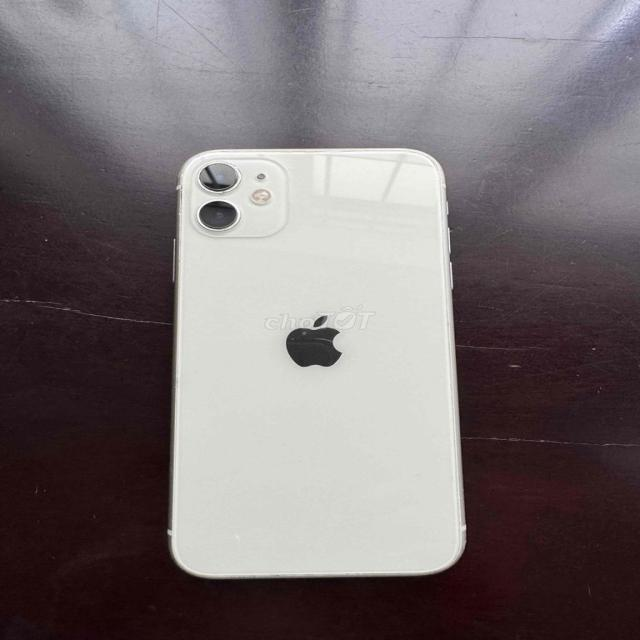scratch: (213, 144, 429, 155), (190, 155, 241, 197)
